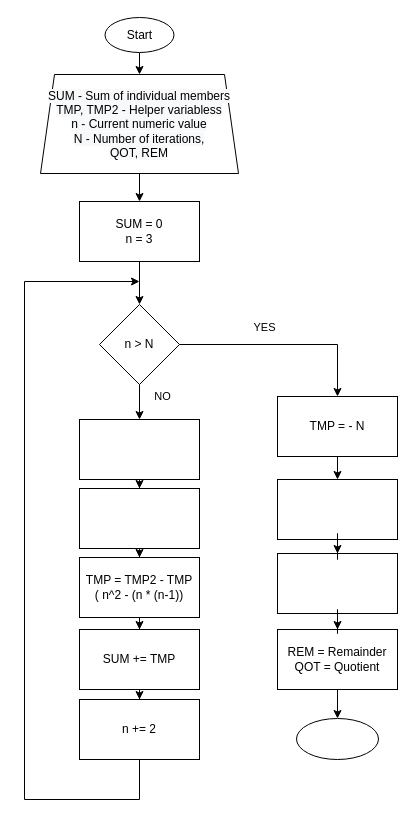
The diagram is 415 pixels wide and 825 high, and some of its shapes have lost their labels. The centre of each missing label's shape, as x and y in pixels:
END: [337,739]
SUM / TMP: [337,583]
TMP += 1: [337,509]
TMP = n * (n-1): [139,449]
TMP2 = n*n: [139,518]
